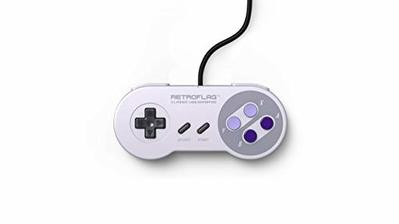controller: (113, 83, 288, 161)
